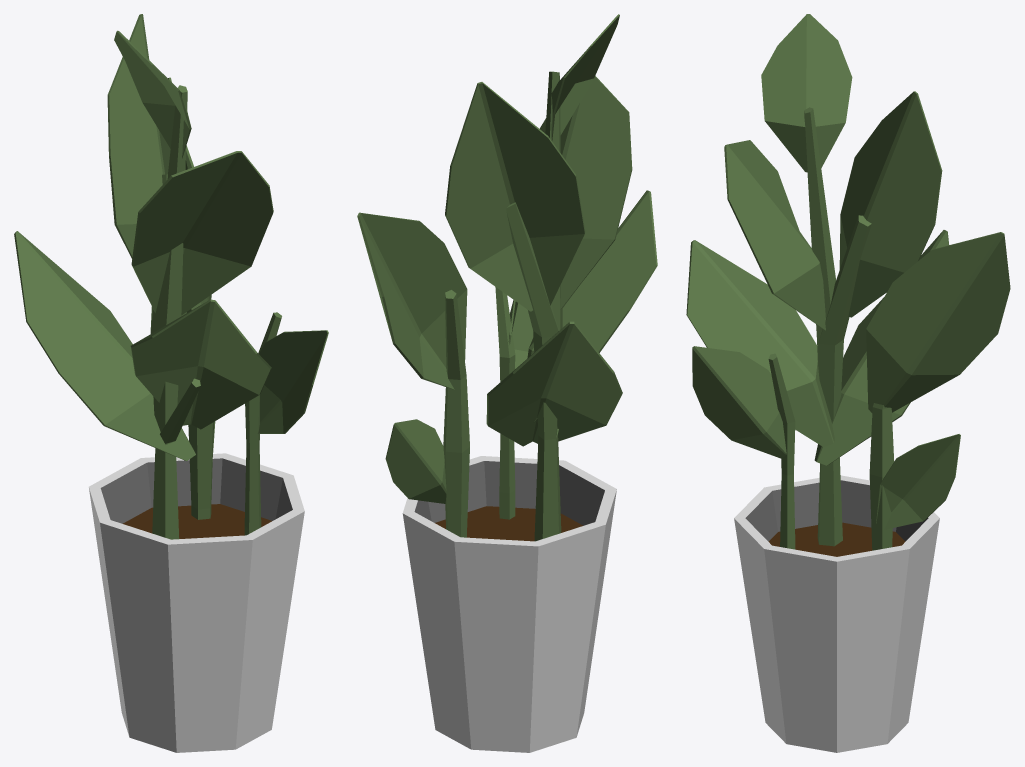
The model's file is Vase_Flower.fbx.
The picture shows the model from 3 angles, left to right: view 1: azimuth 30°, elevation 25°; view 2: azimuth 150°, elevation 25°; view 3: azimuth 270°, elevation 25°; orthographic projection. The views are drawn at different scales.
Visible parts, largest first — view 1: Vase_Flower; view 2: Vase_Flower; view 3: Vase_Flower.
Boxes of the visible parts, left/top/right/bottom form: Vase_Flower: left=14, top=14, right=328, bottom=752; Vase_Flower: left=357, top=14, right=657, bottom=752; Vase_Flower: left=686, top=14, right=1010, bottom=752.
Size of the model in its own units: 113 by 332 by 146.
